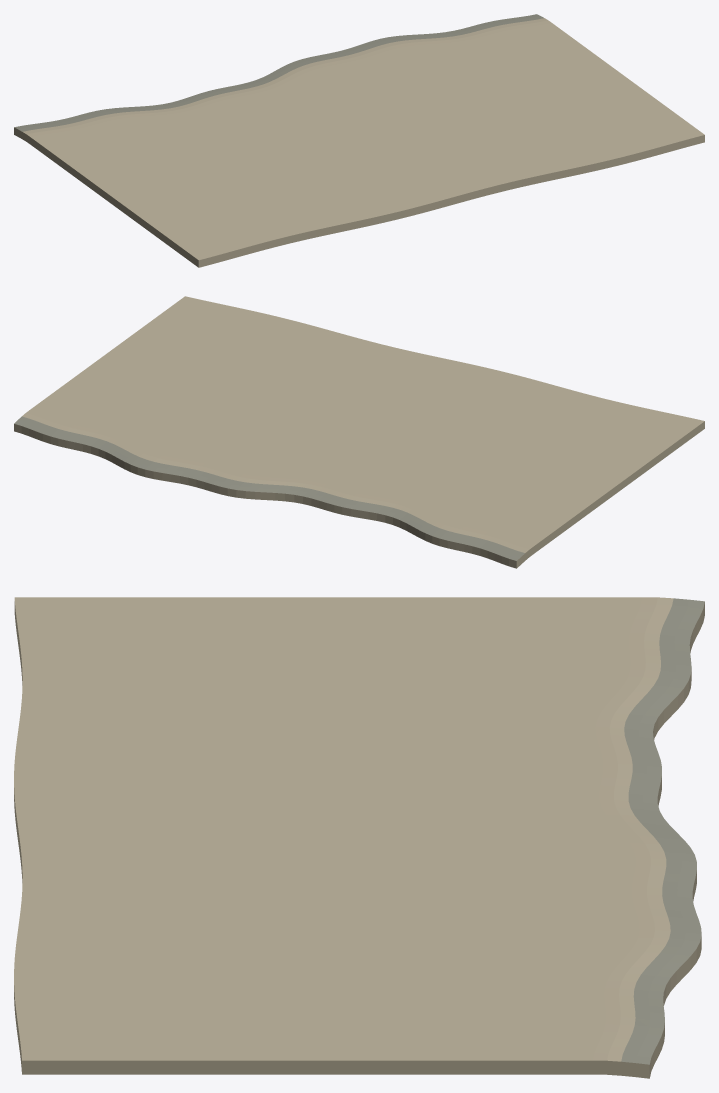
Rendered from SM_ShoreGround.fbx.
The picture shows the model from 3 angles, top to bottom: view 1: azimuth 30°, elevation 25°; view 2: azimuth 150°, elevation 25°; view 3: azimuth 270°, elevation 25°; orthographic projection. The views are drawn at different scales.
Parts seen in each view (by area): view 1: SM_ShoreGround; view 2: SM_ShoreGround; view 3: SM_ShoreGround.
Part boxes in pixels (box(x1,y1,x2,y2)): SM_ShoreGround: box(14, 14, 704, 267); SM_ShoreGround: box(14, 296, 704, 568); SM_ShoreGround: box(14, 597, 704, 1078).
Size of the model in its own units: 4600 by 2899 by 84.
